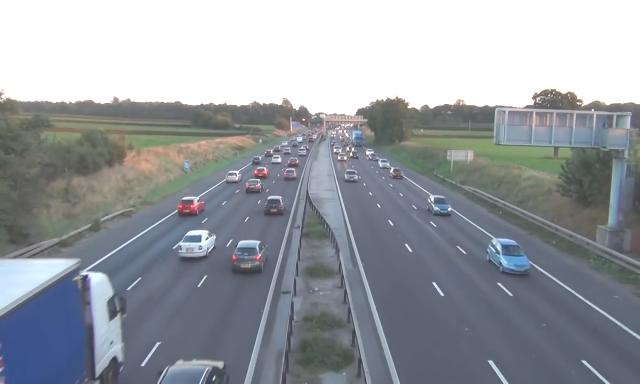caminhaog: (351, 129, 363, 147)
caminhaop: (1, 255, 127, 384)
carro: (154, 356, 230, 383), (486, 238, 530, 276), (230, 240, 269, 274), (178, 228, 218, 260), (426, 196, 452, 217), (178, 196, 205, 216), (264, 196, 286, 216), (246, 179, 264, 194), (226, 170, 242, 184), (344, 169, 358, 183), (254, 166, 269, 178), (284, 168, 298, 180), (389, 168, 404, 179), (286, 157, 300, 167), (378, 158, 390, 169), (271, 154, 282, 164), (333, 143, 343, 154), (368, 152, 378, 162), (349, 149, 359, 159), (338, 152, 347, 162), (252, 156, 262, 164), (346, 143, 354, 153), (265, 149, 274, 157), (366, 148, 375, 156), (298, 148, 306, 156), (283, 147, 291, 155), (301, 144, 309, 151), (274, 145, 281, 152), (292, 141, 298, 148), (281, 140, 288, 146), (344, 140, 349, 148), (308, 137, 314, 143), (290, 136, 296, 142), (340, 137, 346, 143), (332, 140, 337, 146), (301, 136, 307, 140)
van: (296, 136, 304, 144)
